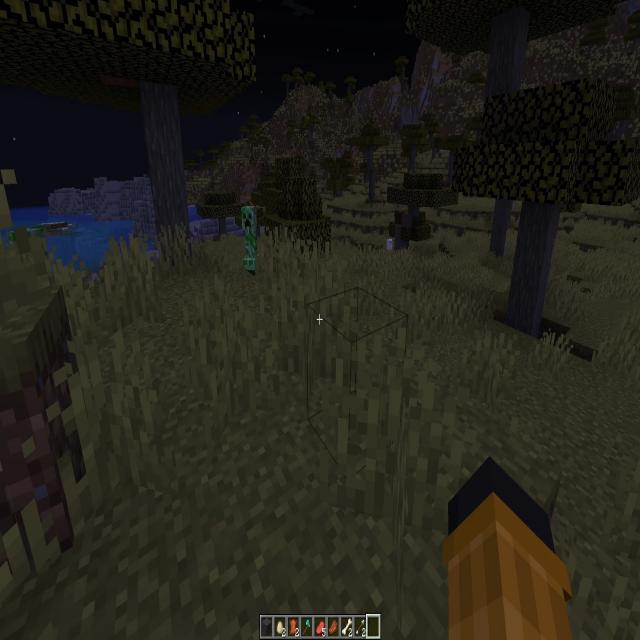Creeper: (242, 201, 262, 274)
Sheep: (386, 237, 393, 251)
